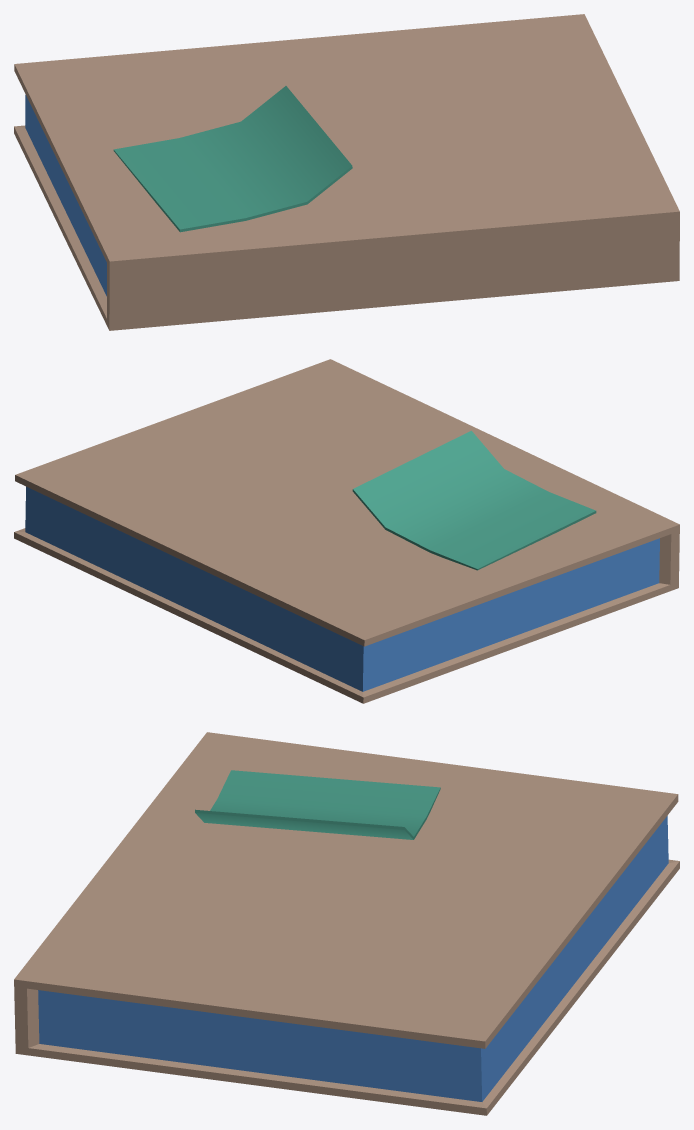
File: Livingroom2_Book_4.fbx
3 renders of one model, top to bottom at view 1: azimuth 30°, elevation 25°; view 2: azimuth 150°, elevation 25°; view 3: azimuth 270°, elevation 25°, orthographic. The views are drawn at different scales.
Visible parts, largest first — view 1: Livingroom2_Book_4; view 2: Livingroom2_Book_4; view 3: Livingroom2_Book_4.
Boxes of the visible parts, box(x1,y1,x2,y2) form: Livingroom2_Book_4: box(14, 14, 679, 330); Livingroom2_Book_4: box(14, 359, 679, 703); Livingroom2_Book_4: box(14, 732, 679, 1115).
Size of the model in its own units: 33.09 by 5.86 by 29.74.
